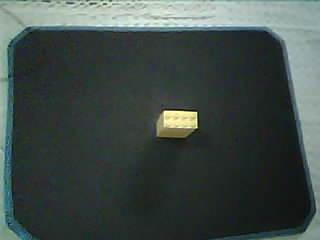lego: (154, 108, 198, 139)
